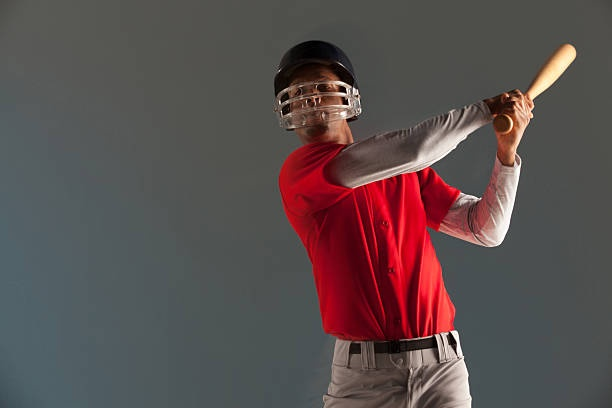bita: (479, 40, 585, 137)
